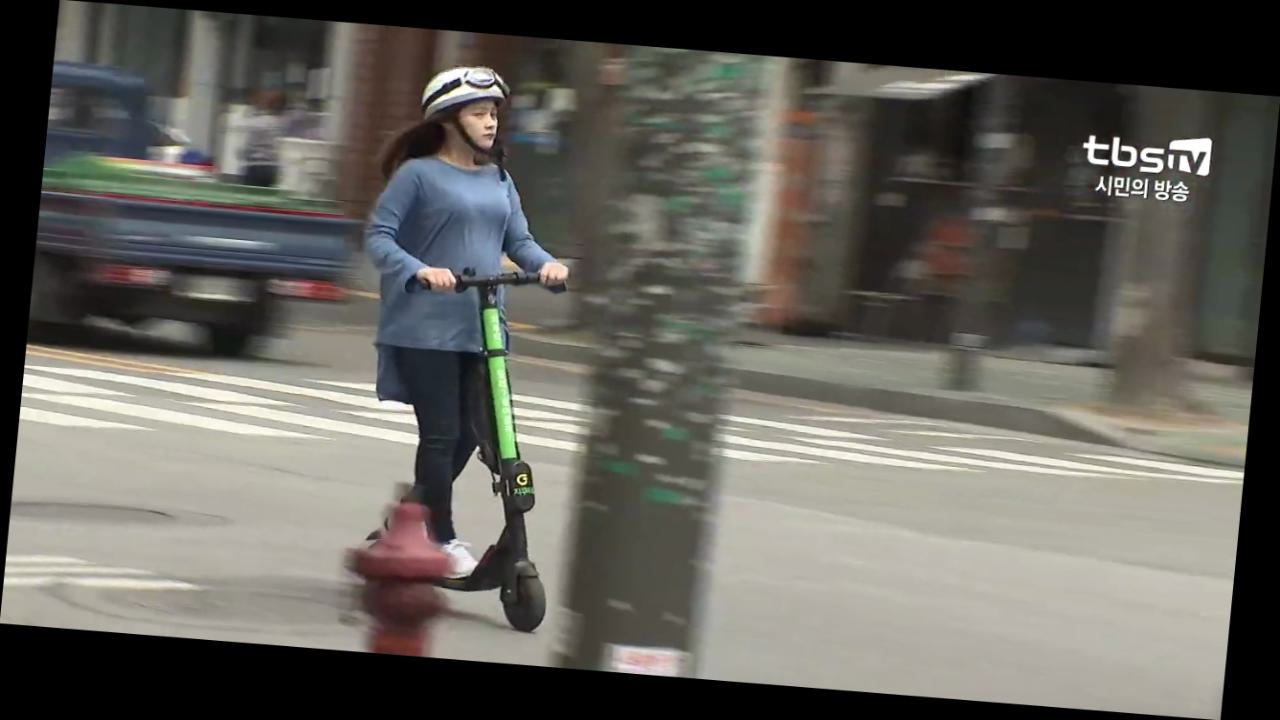helmet: (327, 54, 604, 637)
